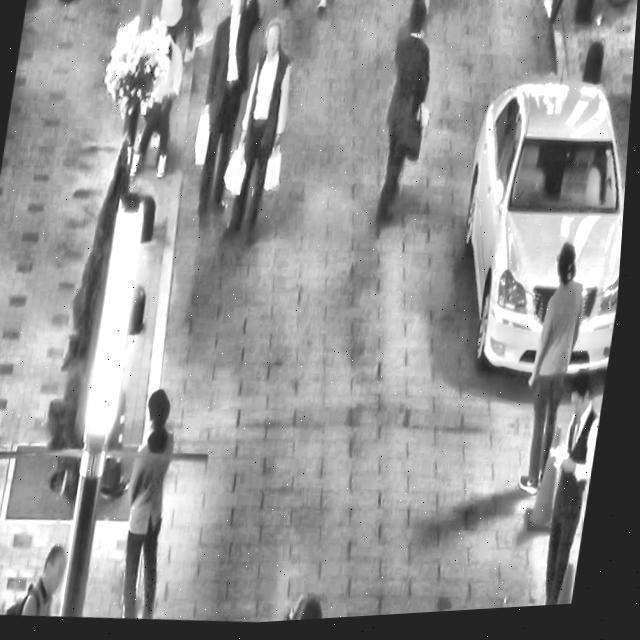light_vehicle: (439, 57, 635, 400)
